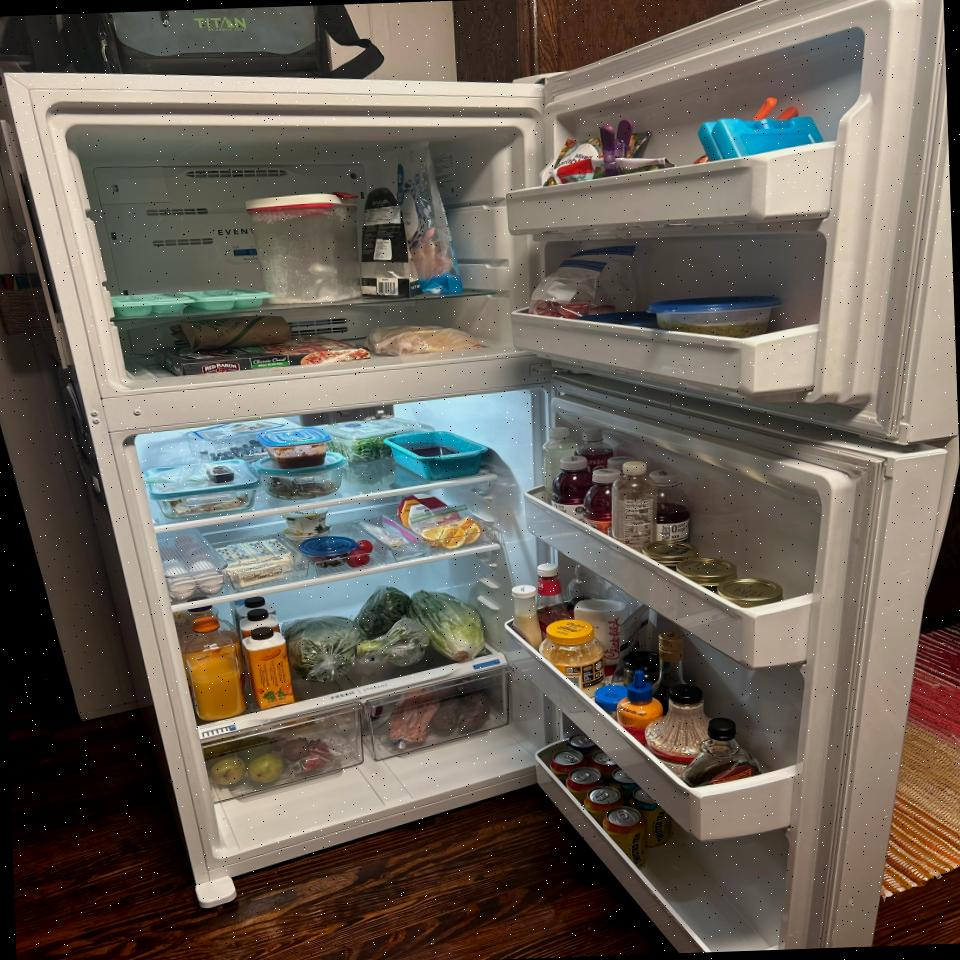Huevos: (154, 526, 228, 601)
Lechuga/Endivia: (406, 588, 486, 665)
Tomate: (346, 550, 370, 568), (354, 540, 373, 552)
Zanahoria: (387, 686, 442, 746)
blueberries: (198, 439, 267, 461)
mayonnaise: (538, 618, 607, 700)
strawberries: (299, 738, 334, 770)
